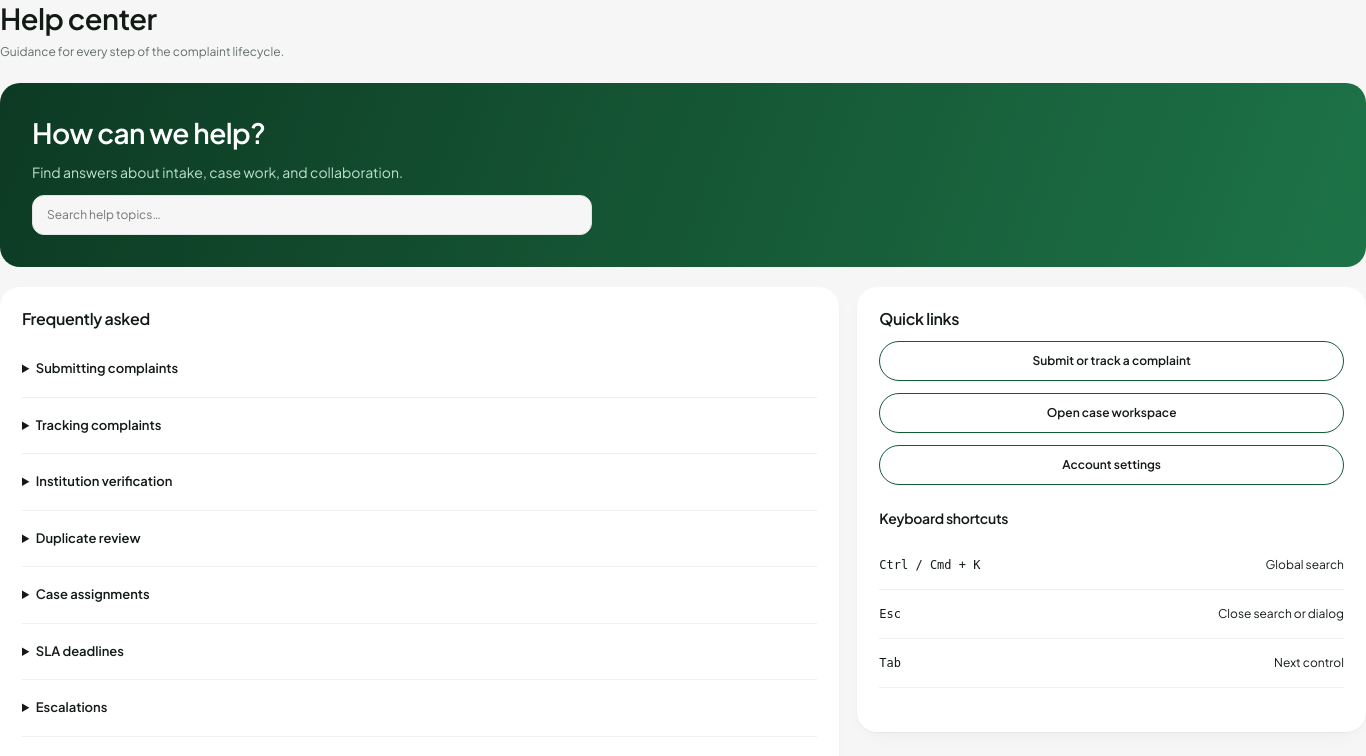
Refinement regressions › searches relevant help and expands answers
Type "Duplicate review" into the field named "Search help articles" at (312, 215), box [32,195,592,235]
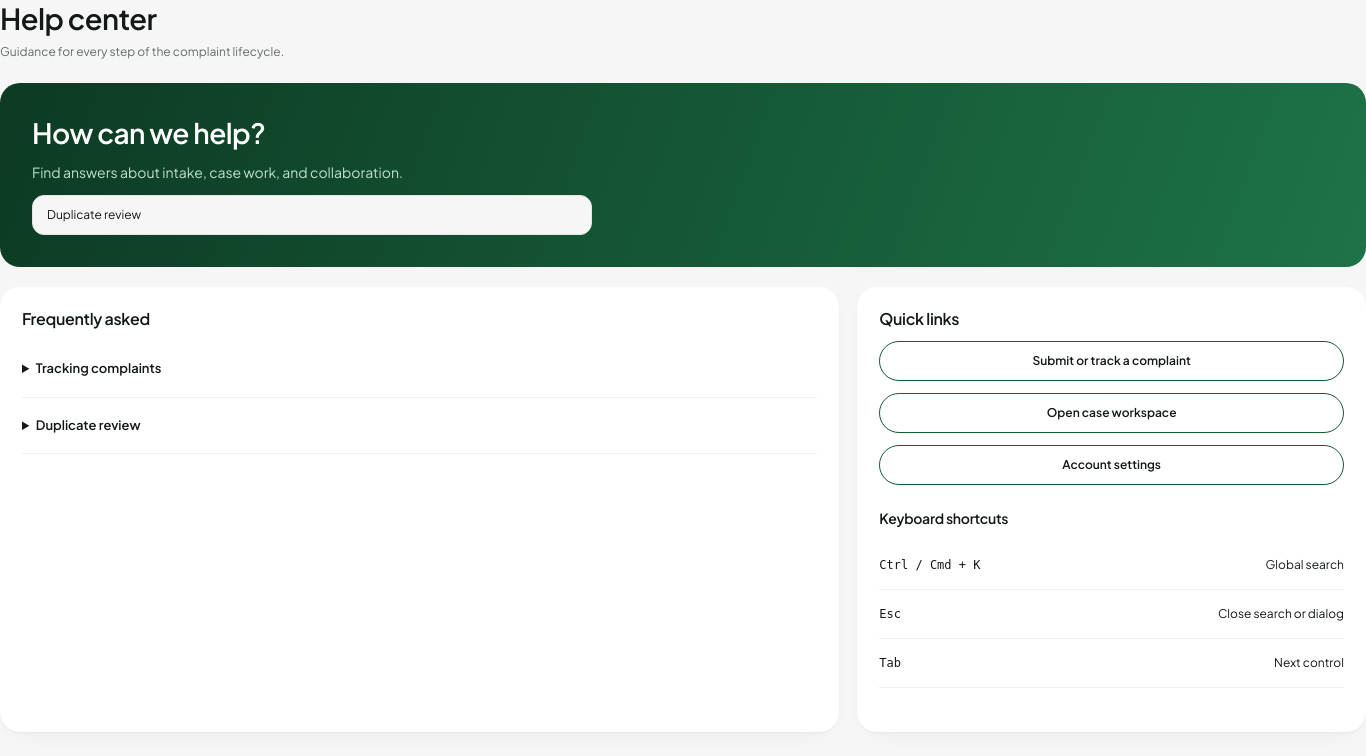
Click the heading "Duplicate review" at (88, 425), box [36,417,141,433]
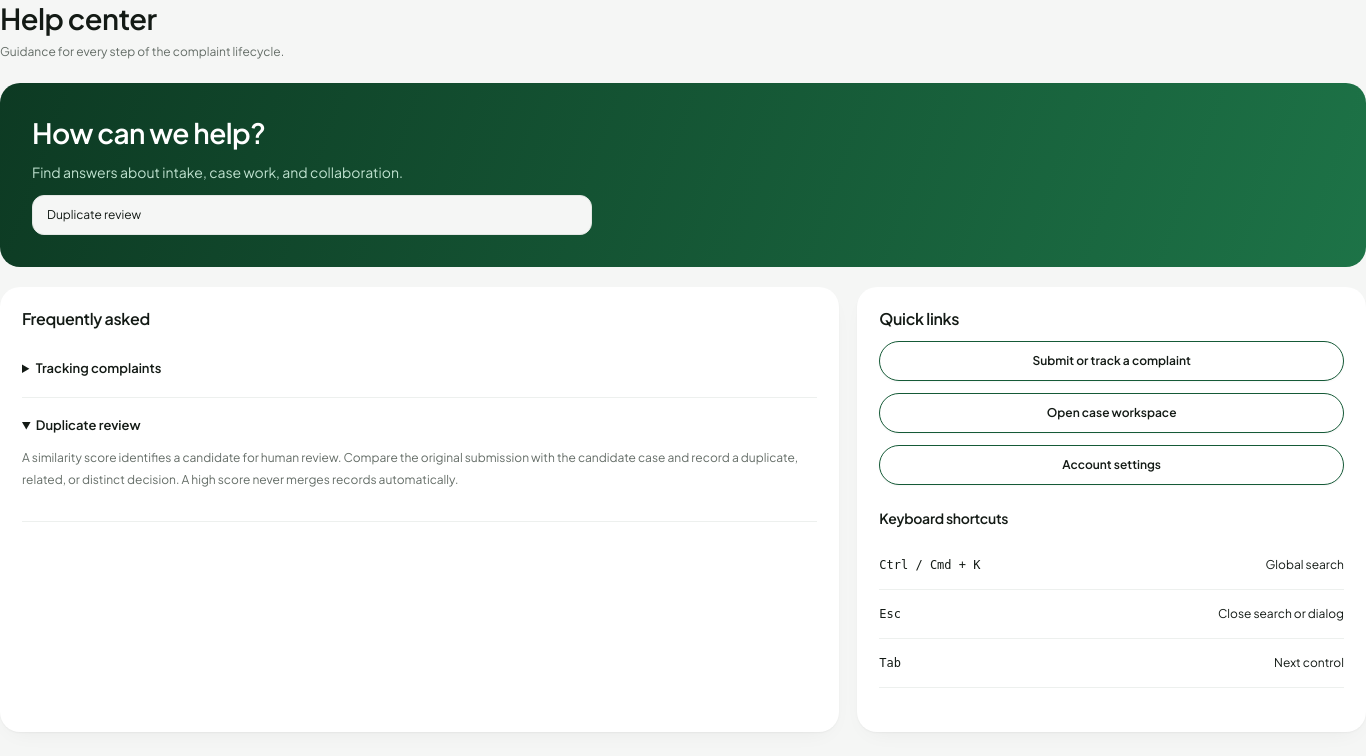
Expected: the text "A similarity score identifies" is shown, [22,450,798,487]
